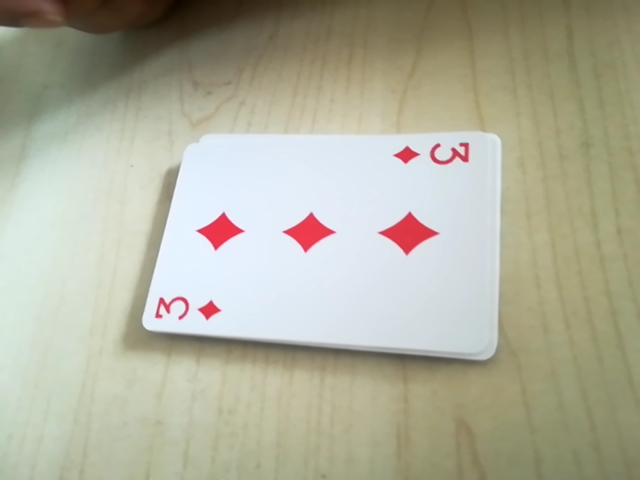fk 3: (388, 133, 478, 175), (147, 285, 230, 329)
